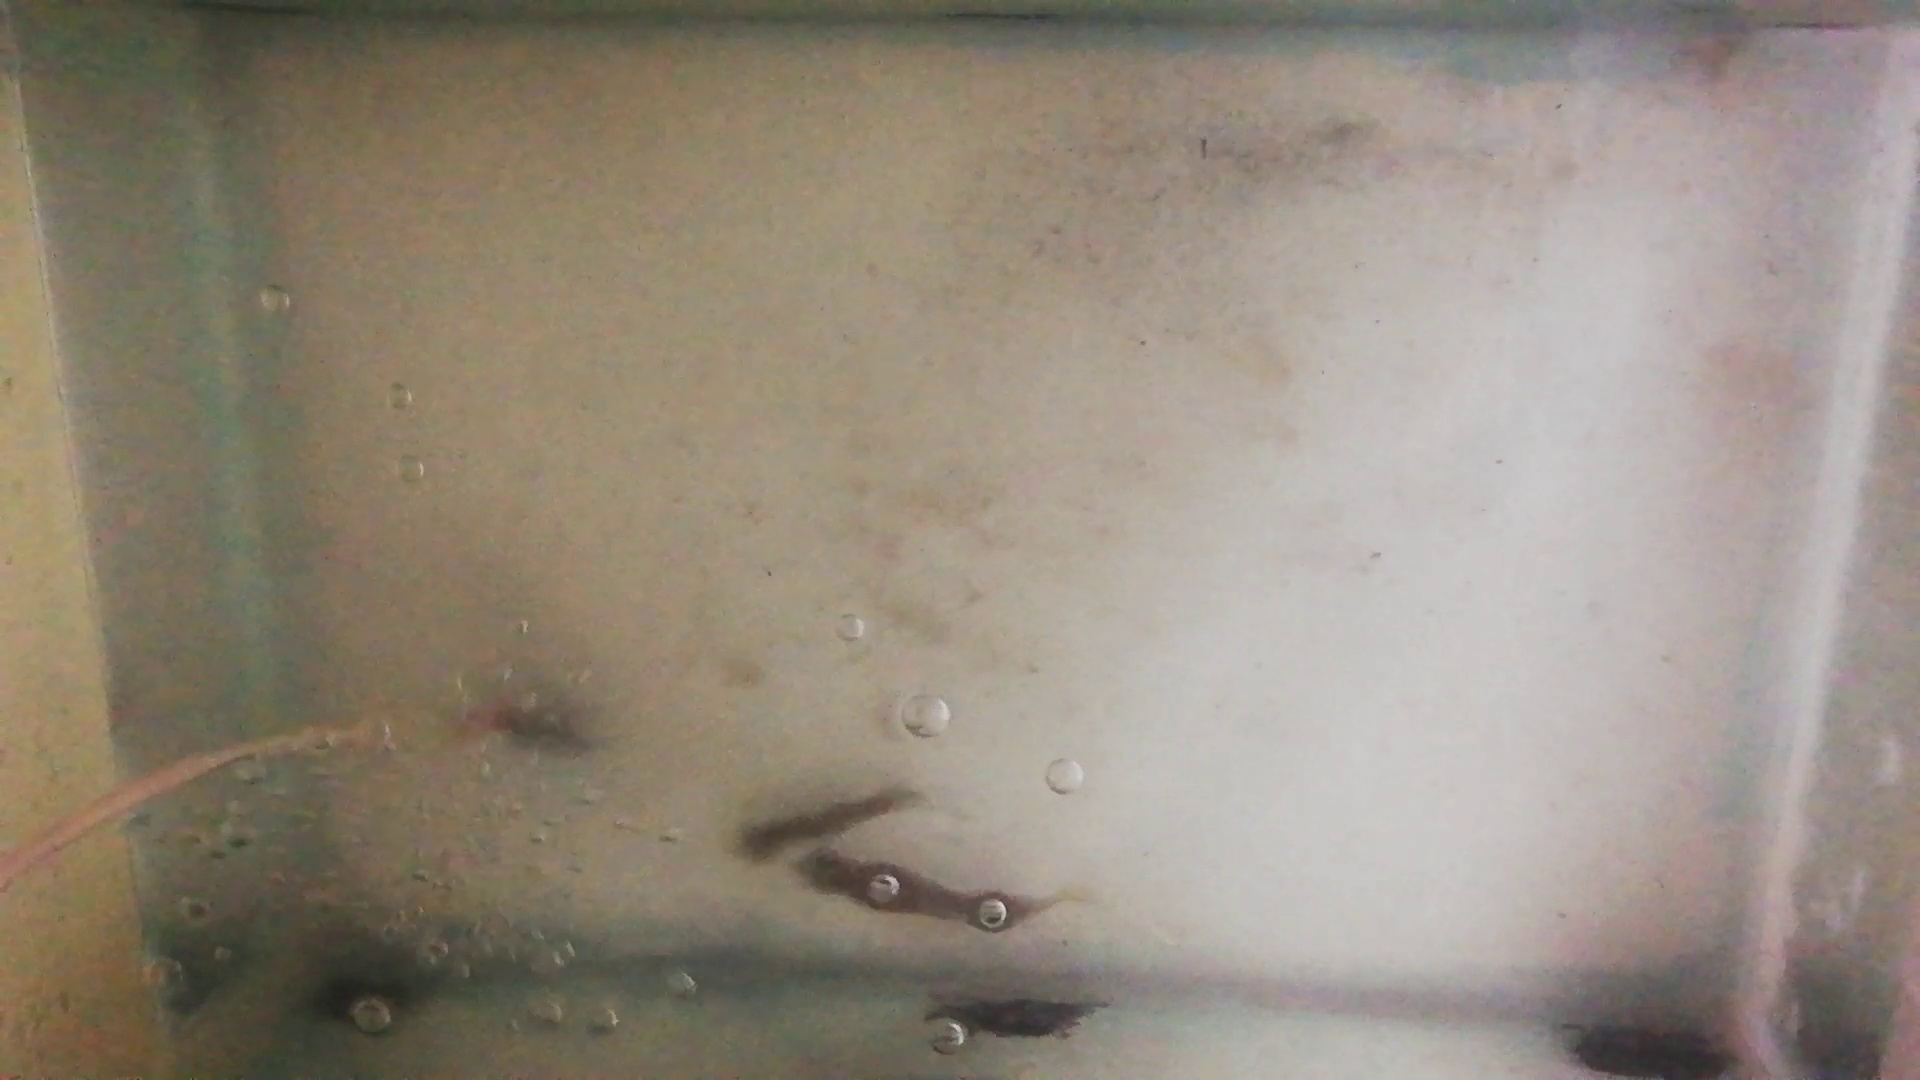fish: (795, 845, 1046, 934), (735, 791, 901, 860)
